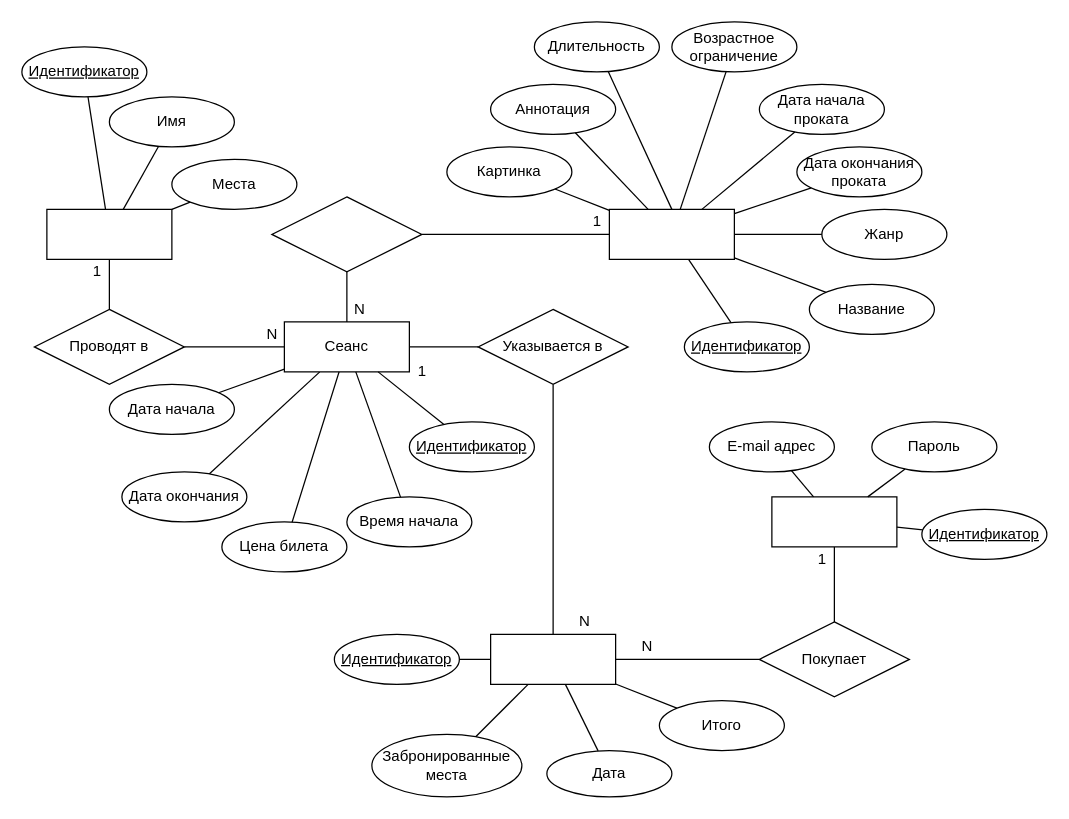
This 1069x819 diagram has some shape labels left out. Here are the shapes that lost their labels. From the top down, the centre of each, then its label:
point 109,233: Зал
point 346,234: Смотрят на
point 671,233: Фильм
point 834,521: Зритель (пользователь)
point 552,658: Билет
